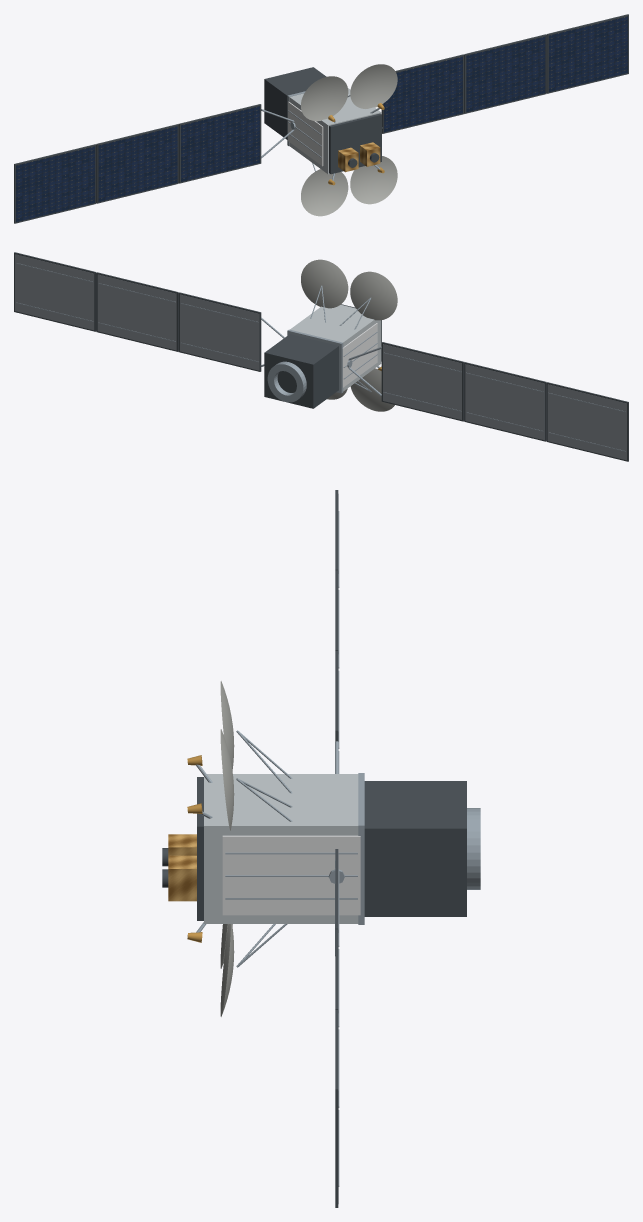
File: boeing-702mp-three-panel.glb
The picture shows the model from 3 angles, top to bottom: view 1: azimuth 30°, elevation 25°; view 2: azimuth 150°, elevation 25°; view 3: azimuth 270°, elevation 25°; orthographic projection. The views are drawn at different scales.
Parts seen in each view (by area): view 1: Solar cell panel (×6), Communications reflector (×4), Solar panel frame (×6), Service module, Earth-facing deck, Radiator face, Payload module, Communications feed assembly (×2); view 2: Rear array substrate (×6), Communications reflector (×3), Solar panel frame (×6), Service module, Payload module, Radiator face, Launch adapter ring, Module interface; view 3: Service module, Payload module, Radiator face, Communications feed assembly, Launch adapter ring.
Boxes of the visible parts, <box> form: Solar cell panel (×6): <box>16,16,627,222</box>; Communications reflector (×4): <box>301,64,397,216</box>; Solar panel frame (×6): <box>14,14,628,223</box>; Service module: <box>264,67,326,139</box>; Earth-facing deck: <box>329,113,381,174</box>; Radiator face: <box>288,101,323,166</box>; Payload module: <box>289,88,381,174</box>; Communications feed assembly (×2): <box>338,142,380,172</box>; Rear array substrate (×6): <box>15,254,626,460</box>; Communications reflector (×3): <box>301,259,397,411</box>; Solar panel frame (×6): <box>14,252,628,461</box>; Service module: <box>264,334,338,408</box>; Payload module: <box>290,305,381,391</box>; Radiator face: <box>342,323,377,387</box>; Launch adapter ring: <box>267,361,306,402</box>; Module interface: <box>287,329,343,393</box>; Service module: <box>364,781,466,916</box>; Payload module: <box>204,774,358,923</box>; Radiator face: <box>222,835,360,915</box>; Communications feed assembly: <box>168,855,196,901</box>; Launch adapter ring: <box>467,808,480,889</box>.
Bounding box in the file's own units: 36.85 × 7.95 × 8.28.
Materials: 9 (2 with a texture image).
